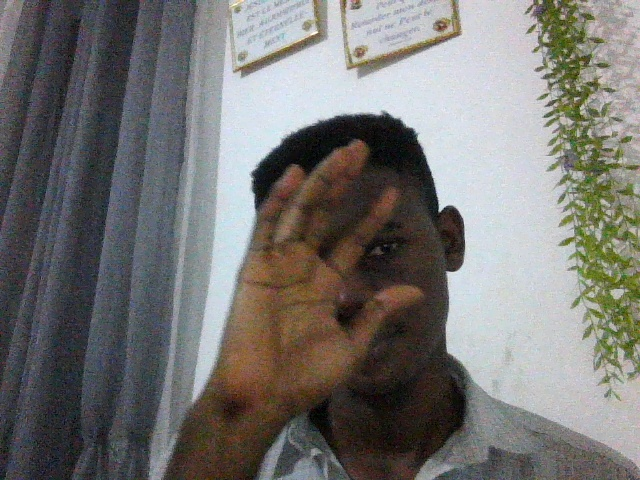hand: (203, 138, 426, 422)
